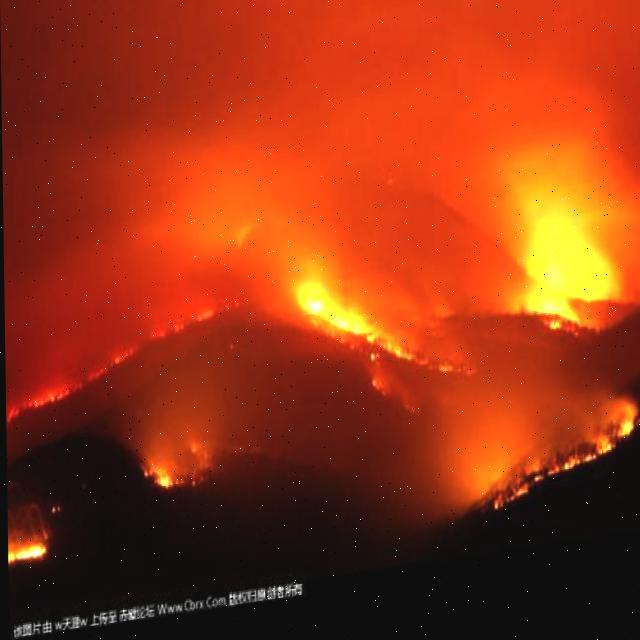Fire: (8, 301, 219, 417), (293, 268, 416, 396), (488, 418, 636, 524), (518, 212, 620, 364), (136, 444, 192, 496), (8, 523, 46, 561)
